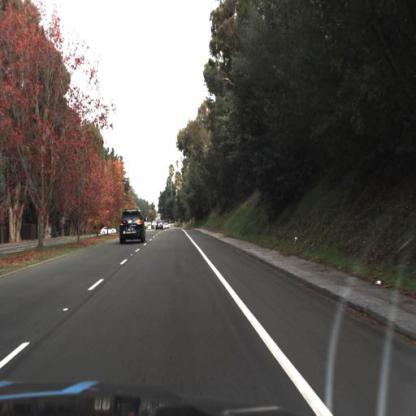car: (114, 208, 147, 251), (99, 222, 119, 241), (153, 217, 165, 235)
